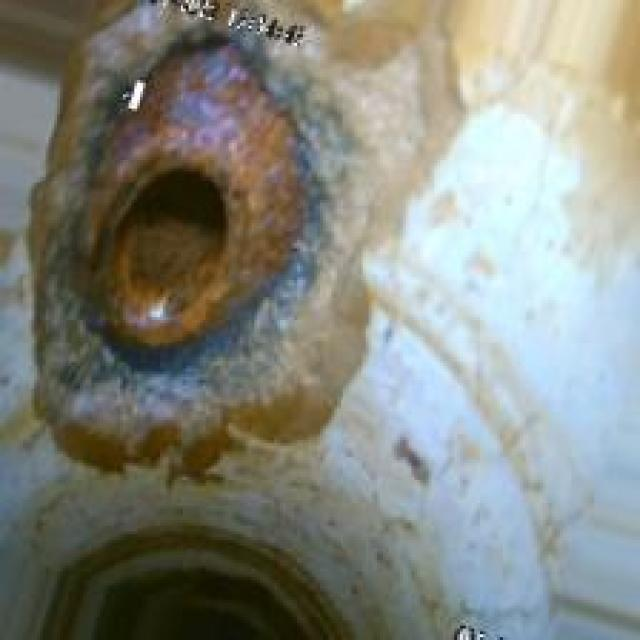ferrule: (66, 74, 346, 403)
